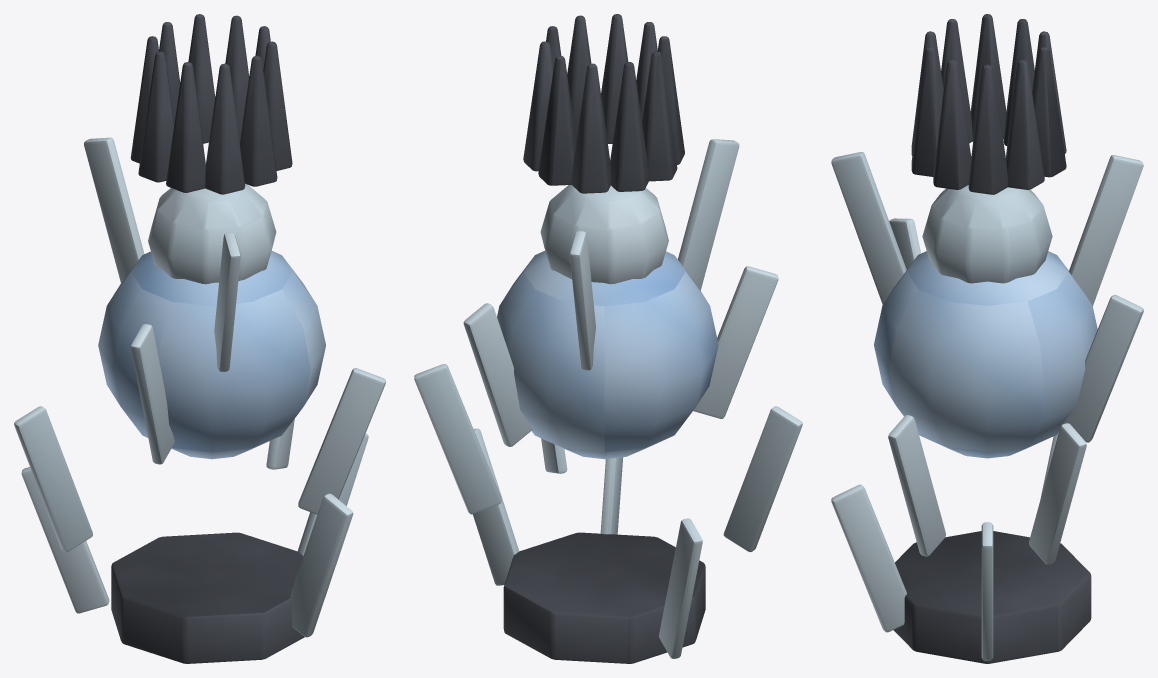
File: unit_veiled_elemental.fbx
The picture shows the model from 3 angles, left to right: view 1: azimuth 30°, elevation 25°; view 2: azimuth 150°, elevation 25°; view 3: azimuth 270°, elevation 25°; orthographic projection.
Visible parts, largest first — view 1: unit_veiled_elemental; view 2: unit_veiled_elemental; view 3: unit_veiled_elemental.
Part boxes in pixels (x1=…): unit_veiled_elemental: x1=14, y1=14, x2=385, y2=663; unit_veiled_elemental: x1=414, y1=14, x2=802, y2=663; unit_veiled_elemental: x1=831, y1=14, x2=1143, y2=663.
Bounding box in the file's own units: 1.35 × 2.15 × 1.04.
